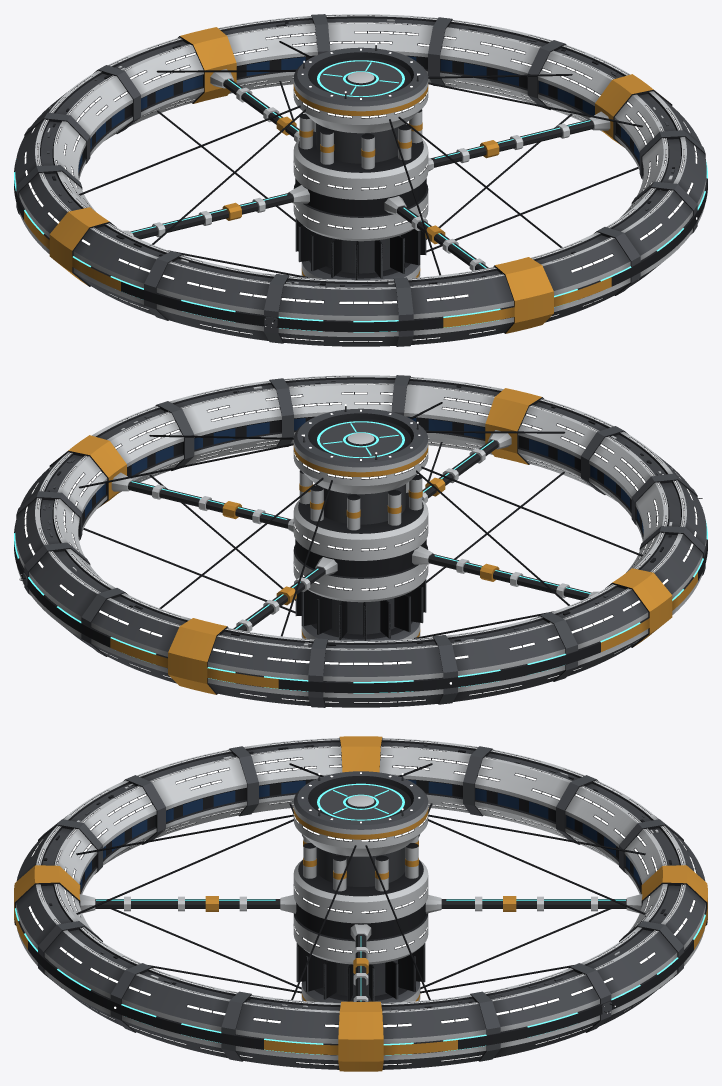
The model's file is station_ring.glb.
3 renders of one model, top to bottom at view 1: azimuth 30°, elevation 25°; view 2: azimuth 150°, elevation 25°; view 3: azimuth 270°, elevation 25°, orthographic.
Visible parts, largest first — view 1: station_ring_mesh; view 2: station_ring_mesh; view 3: station_ring_mesh.
Boxes of the visible parts, <box> form: station_ring_mesh: <box>14,14,707,346</box>; station_ring_mesh: <box>14,375,707,707</box>; station_ring_mesh: <box>14,736,707,1071</box>.
Size of the model in its own units: 1546 by 601 by 1546.
